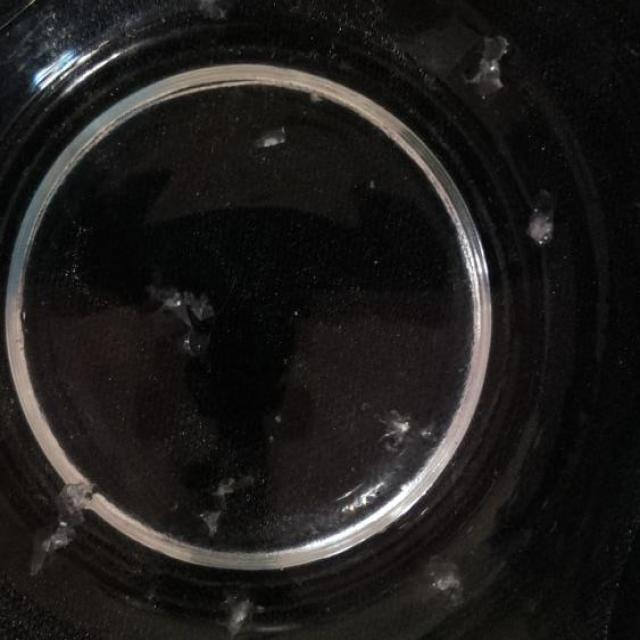fiber: (136, 265, 216, 362), (25, 479, 105, 576), (357, 398, 448, 457), (465, 18, 518, 96), (215, 591, 268, 639), (174, 0, 244, 33), (427, 553, 466, 611), (523, 197, 561, 254), (210, 467, 252, 508), (192, 499, 227, 545), (250, 125, 287, 150)
